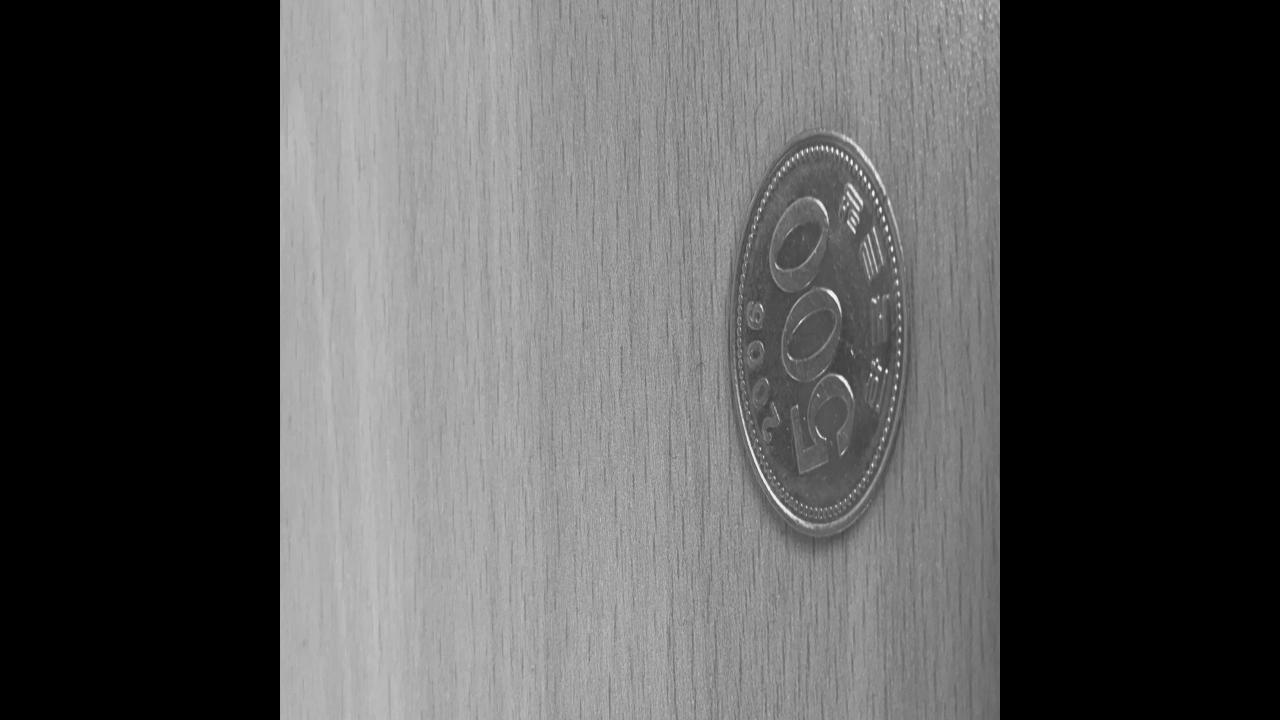coin: (730, 127, 910, 538)
